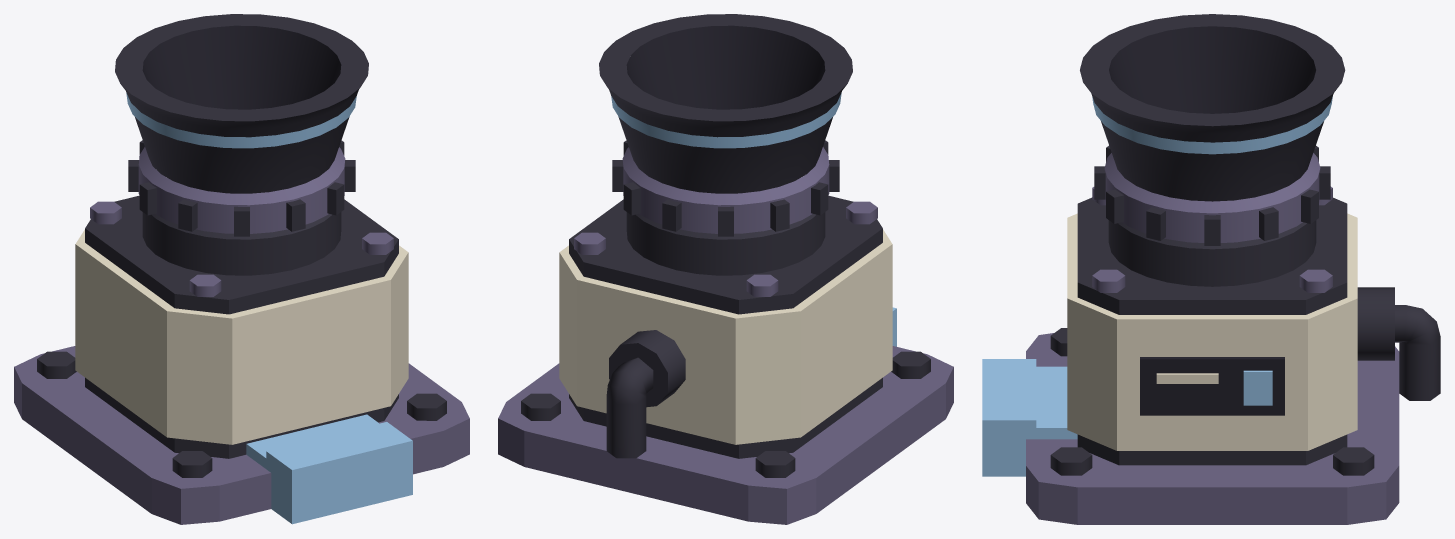
The model's file is nav_camera.glb.
3 views of the same model, side by side, from view 1: azimuth 30°, elevation 25°; view 2: azimuth 150°, elevation 25°; view 3: azimuth 270°, elevation 25° (orthographic). The views are drawn at different scales.
Parts seen in each view (by area): view 1: camera_Graphite, camera_CreamHull, camera_PurpleGrey, camera_PaleBlue, camera_DecalDark; view 2: camera_Graphite, camera_CreamHull, camera_PurpleGrey, camera_DecalDark, camera_PaleBlue; view 3: camera_Graphite, camera_PurpleGrey, camera_CreamHull, camera_DecalDark, camera_PaleBlue.
Part boxes in pixels (x1=…): camera_Graphite: x1=37, y1=14, x2=446, y2=477; camera_CreamHull: x1=75, y1=229, x2=408, y2=444; camera_PurpleGrey: x1=14, y1=147, x2=469, y2=524; camera_PaleBlue: x1=126, y1=93, x2=412, y2=524; camera_DecalDark: x1=142, y1=25, x2=341, y2=109; camera_Graphite: x1=521, y1=14, x2=930, y2=477; camera_CreamHull: x1=559, y1=229, x2=892, y2=444; camera_PurpleGrey: x1=498, y1=147, x2=953, y2=524; camera_DecalDark: x1=626, y1=25, x2=825, y2=109; camera_PaleBlue: x1=611, y1=93, x2=896, y2=346; camera_Graphite: x1=1050, y1=14, x2=1440, y2=475; camera_PurpleGrey: x1=1026, y1=153, x2=1399, y2=524; camera_CreamHull: x1=1067, y1=213, x2=1357, y2=450; camera_DecalDark: x1=1109, y1=26, x2=1315, y2=415; camera_PaleBlue: x1=982, y1=96, x2=1332, y2=476.
Size of the model in its own units: 0.18 by 0.2 by 0.221.
